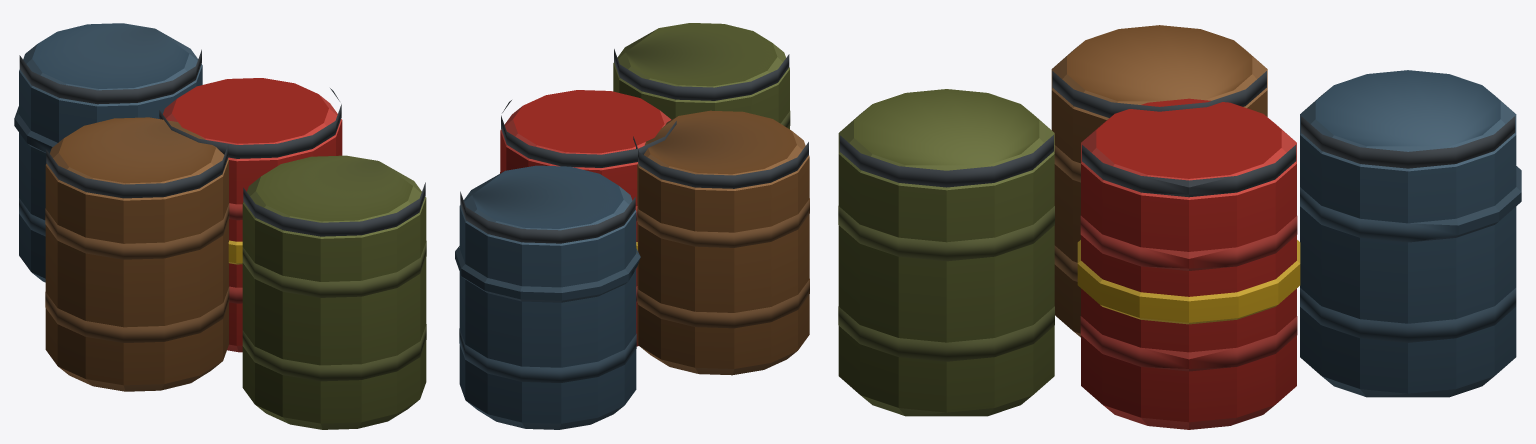
The model's file is barrel-v1.lod1.glb.
3 views of the same model, side by side, from view 1: azimuth 30°, elevation 25°; view 2: azimuth 150°, elevation 25°; view 3: azimuth 270°, elevation 25° (orthographic). The views are drawn at different scales.
Visible parts, largest first — view 1: barrel-v1.lod1; view 2: barrel-v1.lod1; view 3: barrel-v1.lod1.
Part boxes in pixels (x1,y1,x2,y2): barrel-v1.lod1: [14, 23, 426, 429]; barrel-v1.lod1: [455, 23, 809, 429]; barrel-v1.lod1: [838, 25, 1521, 429].
Bounding box in the file's own units: 1.52 × 1.07 × 2.59.
